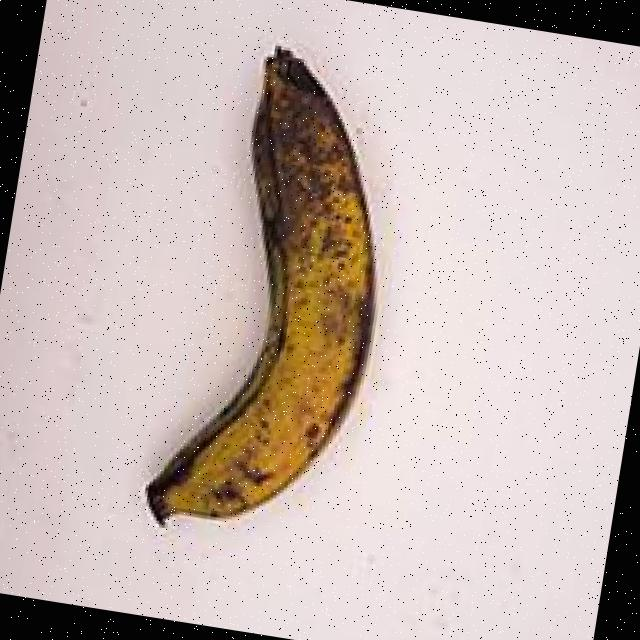Overripe: (96, 8, 452, 584)
